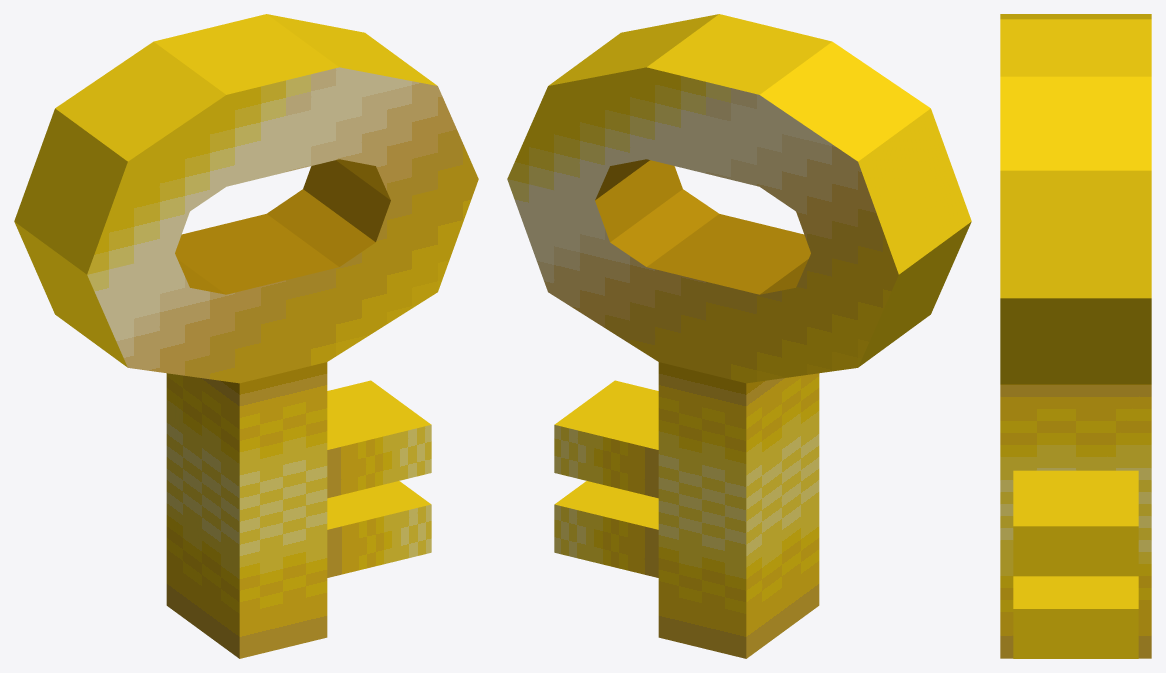
File: treasureKey.dae
3 views of the same model, side by side, from view 1: azimuth 30°, elevation 25°; view 2: azimuth 150°, elevation 25°; view 3: azimuth 270°, elevation 25° (orthographic). The views are drawn at different scales.
Visible parts, largest first — view 1: vsn_mesh_0_; view 2: vsn_mesh_0_; view 3: vsn_mesh_0_.
Boxes of the visible parts, x1,y1,x2,y2 form: vsn_mesh_0_: (14, 14, 478, 658); vsn_mesh_0_: (507, 14, 971, 658); vsn_mesh_0_: (1000, 14, 1151, 658).
Bounding box in the file's own units: 1.45 × 2.01 × 0.4681.
Materials: 1 (1 with a texture image).
